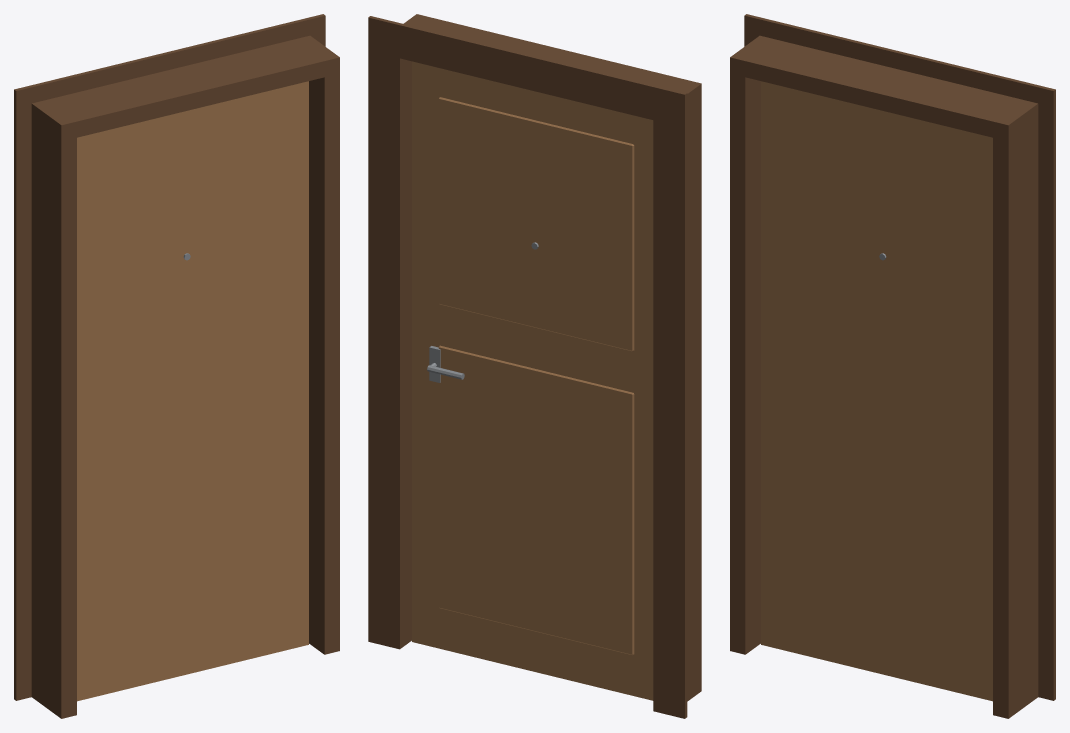
File: Puerta.fbx
The picture shows the model from 3 angles, left to right: view 1: azimuth 30°, elevation 25°; view 2: azimuth 150°, elevation 25°; view 3: azimuth 330°, elevation 25°; orthographic projection. The views are drawn at different scales.
Parts seen in each view (by area): view 1: door_PuertaCalle; view 2: door_PuertaCalle; view 3: door_PuertaCalle.
Boxes of the visible parts, x1=… form: door_PuertaCalle: x1=14, y1=14, x2=339, y2=718; door_PuertaCalle: x1=368, y1=14, x2=701, y2=718; door_PuertaCalle: x1=730, y1=14, x2=1055, y2=718.
Bounding box in the file's own units: 1.2 × 2.26 × 0.215.
